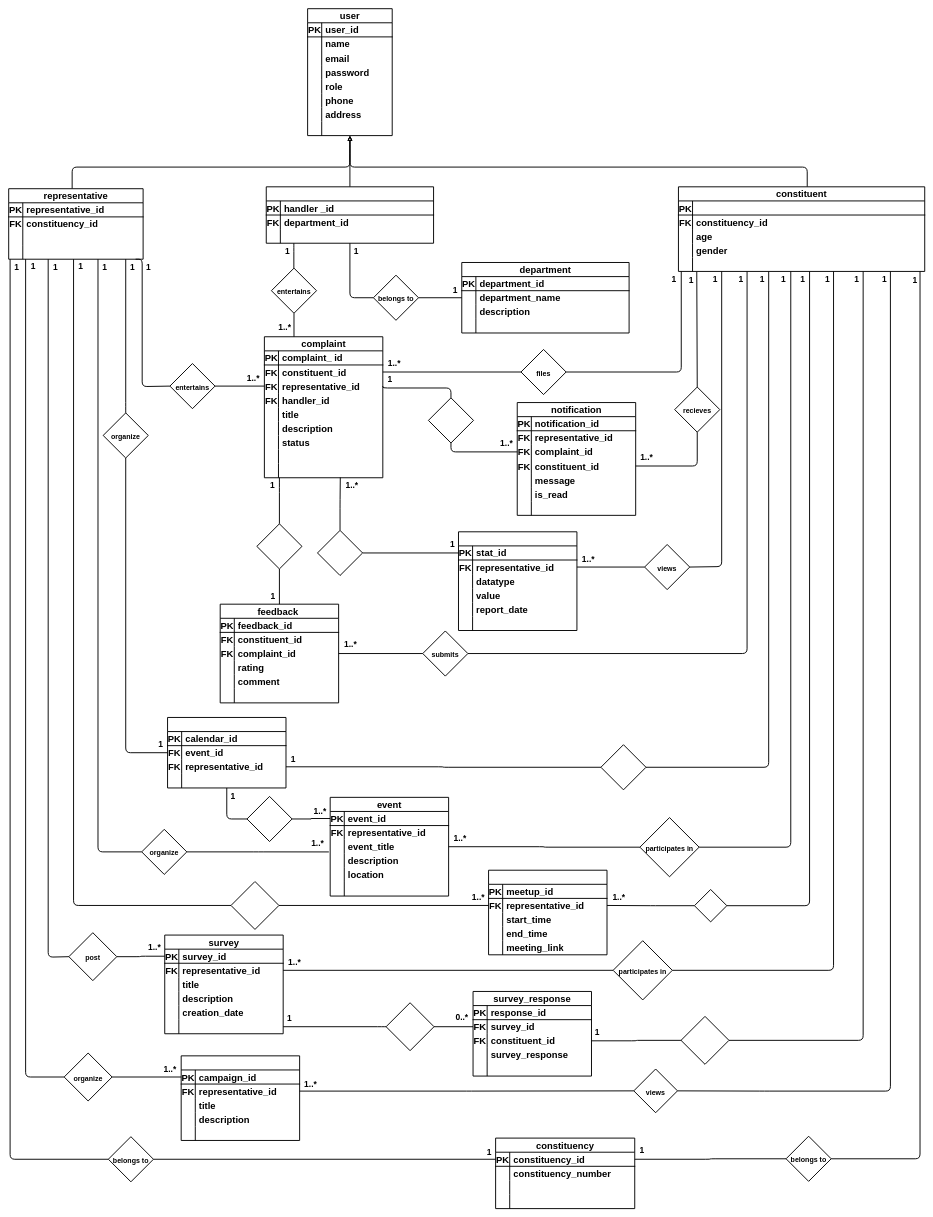
This 933x1217 diagram has some shape labels left out. The shapes that lost their labels are listed below. From the top down, each one's box as (x1, y1, x2, y2) in pixels, then its label:
(266, 186, 434, 243): department_complaint_handler
(428, 397, 474, 443): triggers
(256, 523, 302, 569): refers to
(317, 530, 363, 576): use
(458, 531, 577, 631): statistics
(167, 717, 286, 788): event_calendar
(600, 744, 646, 790): access
(246, 796, 292, 842): contains
(230, 881, 279, 930): schedule
(488, 870, 607, 955): virtual_meetup
(694, 889, 727, 922): joins
(385, 1002, 434, 1051): has
(680, 1016, 729, 1065): provides
(180, 1055, 300, 1141): awareness_campaign
